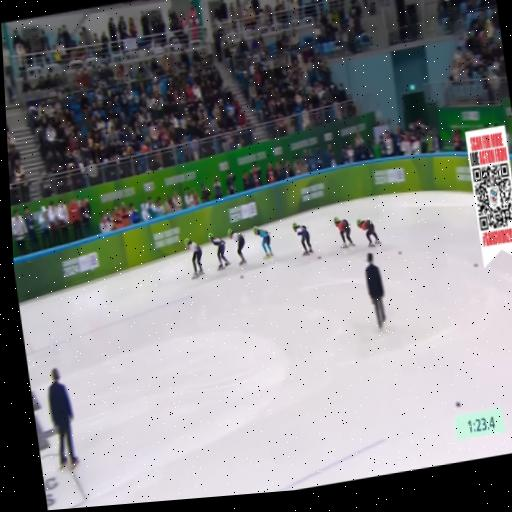Skater: (208, 233, 230, 270), (185, 238, 204, 277), (292, 223, 313, 255), (228, 228, 246, 265), (253, 226, 273, 259), (357, 219, 380, 246), (334, 217, 354, 248)
